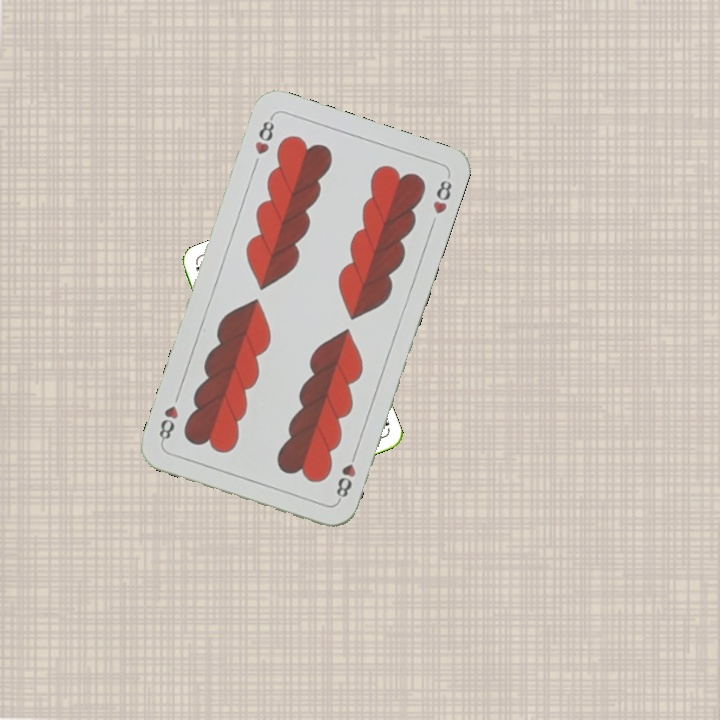H8: (332, 446, 360, 504), (250, 112, 277, 158)
